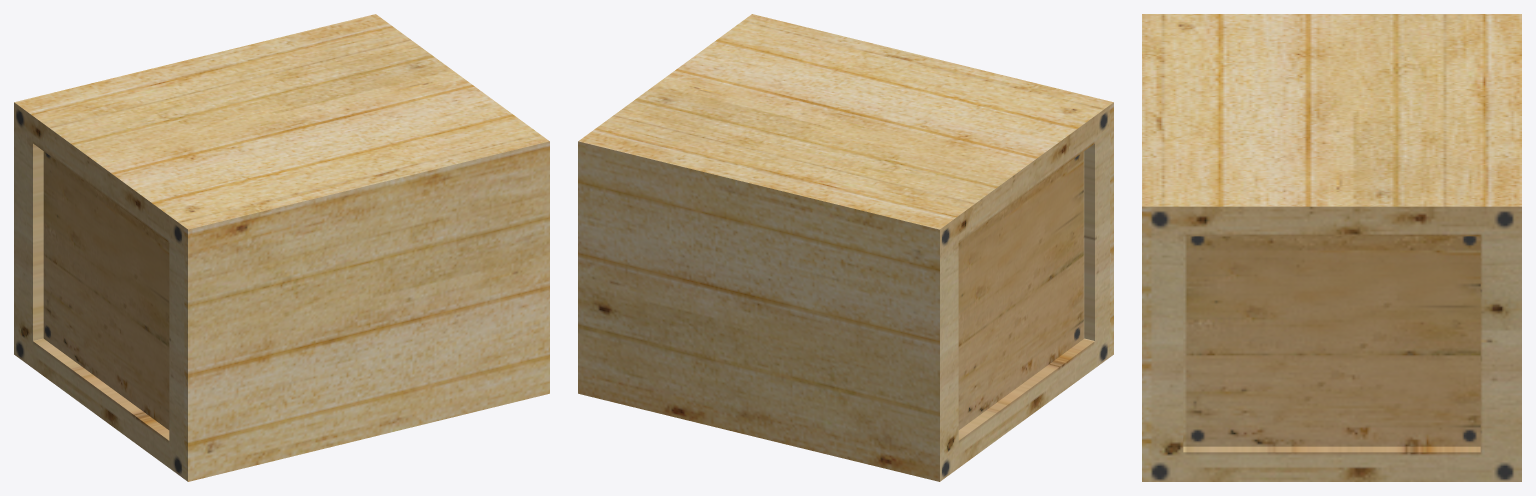
The model's file is crate.fbx.
3 renders of one model, left to right at view 1: azimuth 30°, elevation 25°; view 2: azimuth 150°, elevation 25°; view 3: azimuth 270°, elevation 25°, orthographic. The views are drawn at different scales.
Parts seen in each view (by area): view 1: crateMesh; view 2: crateMesh; view 3: crateMesh.
Boxes of the visible parts, <box> form: crateMesh: <box>14,14,549,481</box>; crateMesh: <box>578,14,1113,481</box>; crateMesh: <box>1142,14,1521,481</box>.
Bounding box in the file's own units: 96 × 64 × 80.
